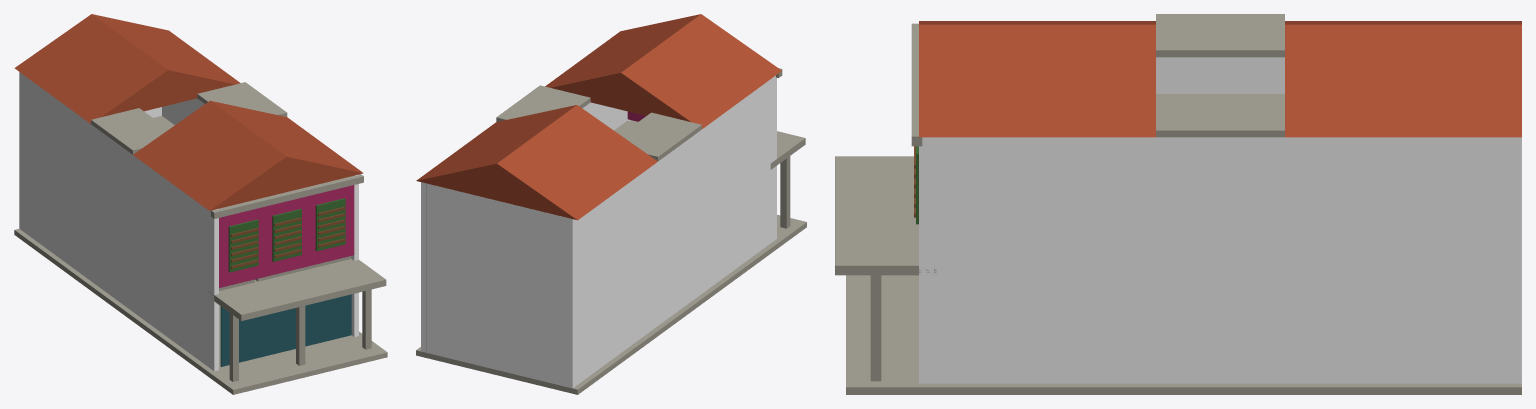
File: source-edit.glb
3 renders of one model, left to right at view 1: azimuth 30°, elevation 25°; view 2: azimuth 150°, elevation 25°; view 3: azimuth 270°, elevation 25°, orthographic. The views are drawn at different scales.
Parts seen in each view (by area): view 1: Party_Wall, Front_Pitched_Roof, Rear_Pitched_Roof, Base, Upper_Facade, Arcade_Canopy, Shopfront, Airwell_Side_Cover.001, Cornice, Airwell_Side_Cover, Party_Wall.001, Shutter_Window (+5 smaller); view 2: Party_Wall, Rear_Wall, Rear_Pitched_Roof, Front_Pitched_Roof, Base, Airwell_Side_Cover.001, Airwell_Side_Cover, Party_Wall.001, Arcade_Column.001, Arcade_Canopy; view 3: Party_Wall.001, Front_Pitched_Roof, Rear_Pitched_Roof, Base, Arcade_Canopy, Airwell_Side_Cover.001, Airwell_Side_Cover, Party_Wall, Arcade_Column, Cornice.
Boxes of the visible parts, x1,y1,x2,y2 form: Party_Wall: (19,72,218,371); Front_Pitched_Roof: (133,100,363,210); Rear_Pitched_Roof: (14,14,240,123); Base: (14,229,387,394); Upper_Facade: (219,185,354,287); Arcade_Canopy: (208,259,386,320); Shopfront: (220,294,351,366); Airwell_Side_Cover.001: (91,108,168,154); Cornice: (211,174,363,218); Airwell_Side_Cover: (197,82,287,116); Party_Wall.001: (162,98,358,337); Shutter_Window: (228,219,258,272); Party_Wall: (567,75,776,388); Rear_Wall: (426,183,567,386); Rear_Pitched_Roof: (416,105,657,220); Front_Pitched_Roof: (545,14,781,128); Base: (416,214,806,394); Airwell_Side_Cover.001: (620,112,701,161); Airwell_Side_Cover: (496,85,590,121); Party_Wall.001: (421,102,630,352); Arcade_Column.001: (780,156,790,228); Arcade_Canopy: (630,120,805,169); Party_Wall.001: (919,137,1521,383); Front_Pitched_Roof: (919,21,1155,137); Rear_Pitched_Roof: (1285,21,1521,137); Base: (846,275,1521,394); Arcade_Canopy: (835,156,936,275); Airwell_Side_Cover.001: (1156,14,1284,57); Airwell_Side_Cover: (1156,94,1284,137); Party_Wall: (1156,57,1284,93); Arcade_Column: (870,275,881,381); Cornice: (911,23,922,146).
Size of the model in its own units: 6.4 by 8 by 15.95.
